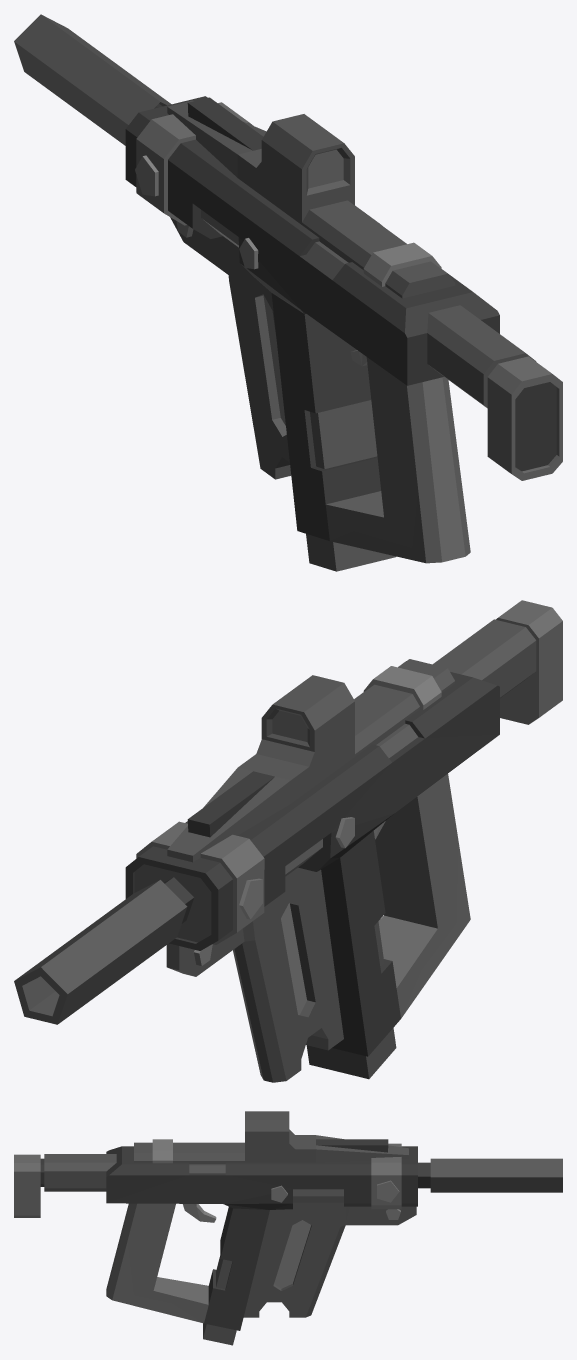
File: subfusil_5.glb
3 renders of one model, top to bottom at view 1: azimuth 30°, elevation 25°; view 2: azimuth 150°, elevation 25°; view 3: azimuth 270°, elevation 25°, orthographic. The views are drawn at different scales.
Visible parts, largest first — view 1: subfusil_5, subfusil_scope_5, subfusil_charguer_5; view 2: subfusil_5, subfusil_scope_5, subfusil_charguer_5; view 3: subfusil_5, subfusil_scope_5, subfusil_charguer_5.
Part boxes in pixels (bbox=[...]): subfusil_5: bbox=[14, 14, 562, 563]; subfusil_scope_5: bbox=[167, 97, 455, 298]; subfusil_charguer_5: bbox=[306, 400, 396, 571]; subfusil_5: bbox=[14, 600, 562, 1082]; subfusil_scope_5: bbox=[167, 659, 455, 862]; subfusil_charguer_5: bbox=[306, 921, 396, 1079]; subfusil_5: bbox=[14, 1143, 562, 1330]; subfusil_scope_5: bbox=[134, 1111, 408, 1164]; subfusil_charguer_5: bbox=[203, 1256, 236, 1345].
Bounding box in the file's own units: 0.3147 × 1.12 × 2.5.
1 material, 1 textured.
